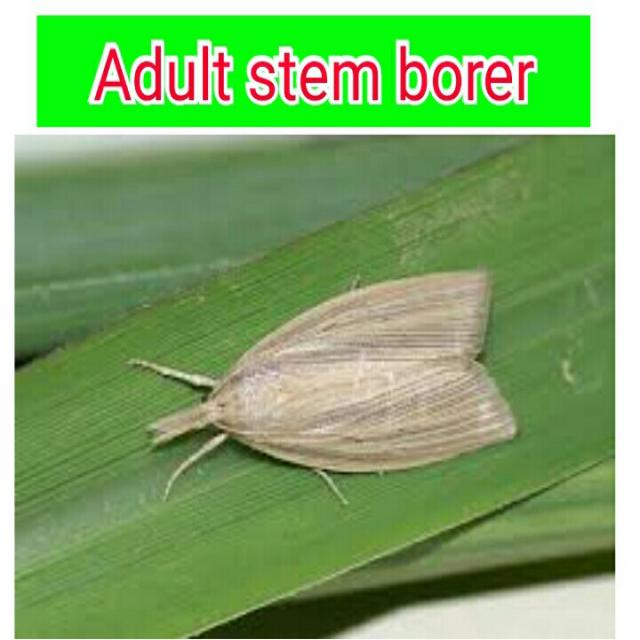cornborer-Adult-: (119, 258, 542, 526)
